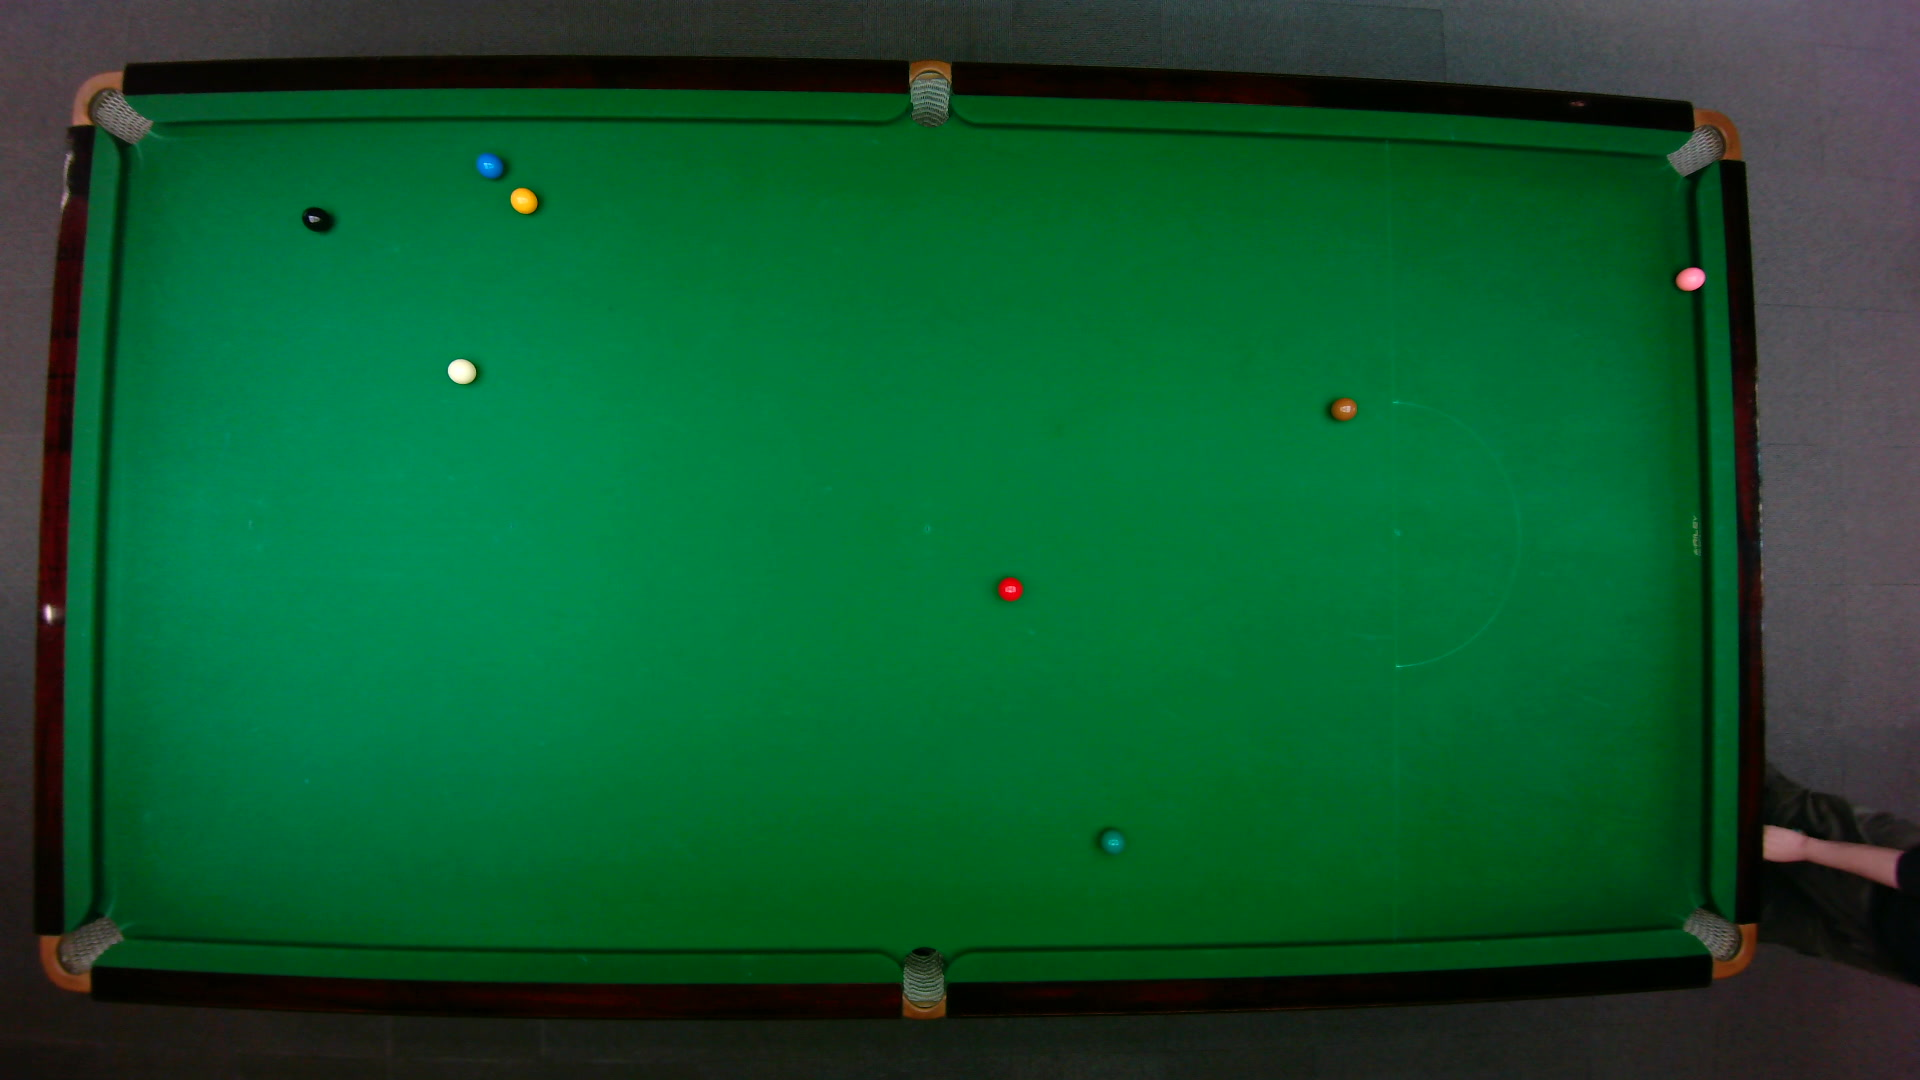bag: (38, 914, 125, 993), (70, 69, 153, 144), (1679, 905, 1756, 978), (1663, 107, 1742, 177), (901, 944, 944, 1021), (909, 57, 949, 128)
black: (301, 204, 331, 232)
blue: (473, 152, 502, 179)
brown: (1328, 396, 1358, 421)
green: (1097, 827, 1126, 855)
pink: (1673, 264, 1706, 291)
red: (996, 575, 1025, 601)
white: (444, 356, 477, 385)
yellow: (508, 185, 538, 214)
zone: (1390, 400, 1520, 669)
